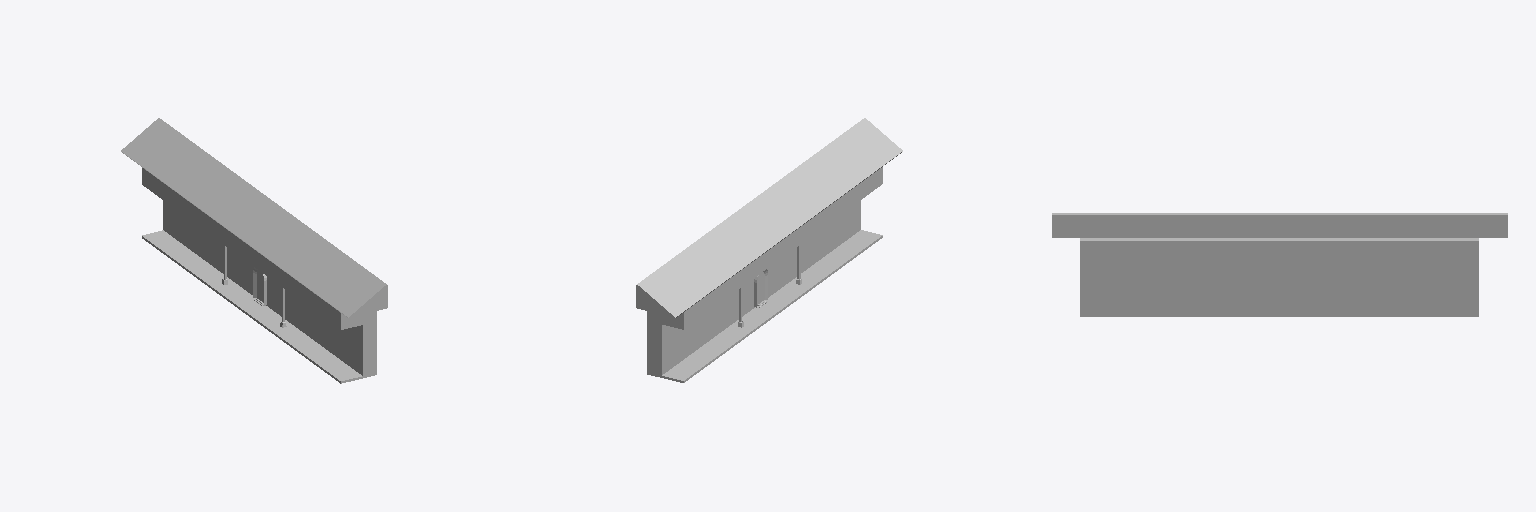
File: PorticoStart_Front.obj
The picture shows the model from 3 angles: view 1: azimuth 30°, elevation 25°; view 2: azimuth 150°, elevation 25°; view 3: azimuth 270°, elevation 25°; orthographic projection.
Visible parts, largest first — view 1: Edificio, Tetto.003; view 2: Edificio, Tetto.003; view 3: Edificio, Tetto.003.
Part boxes in pixels (x1,y1,x2,y2): Edificio: (142, 168, 376, 383); Tetto.003: (121, 118, 387, 318); Edificio: (647, 167, 882, 382); Tetto.003: (636, 118, 902, 318); Edificio: (1080, 238, 1478, 316); Tetto.003: (1052, 213, 1507, 237).
Bounding box in the file's own units: 5.87 × 13.33 × 54.